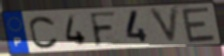4: (125, 8, 152, 47), (65, 14, 89, 47)
C: (28, 15, 60, 50)
E: (180, 5, 218, 44)
F: (88, 10, 119, 48)
V: (147, 6, 182, 46)
